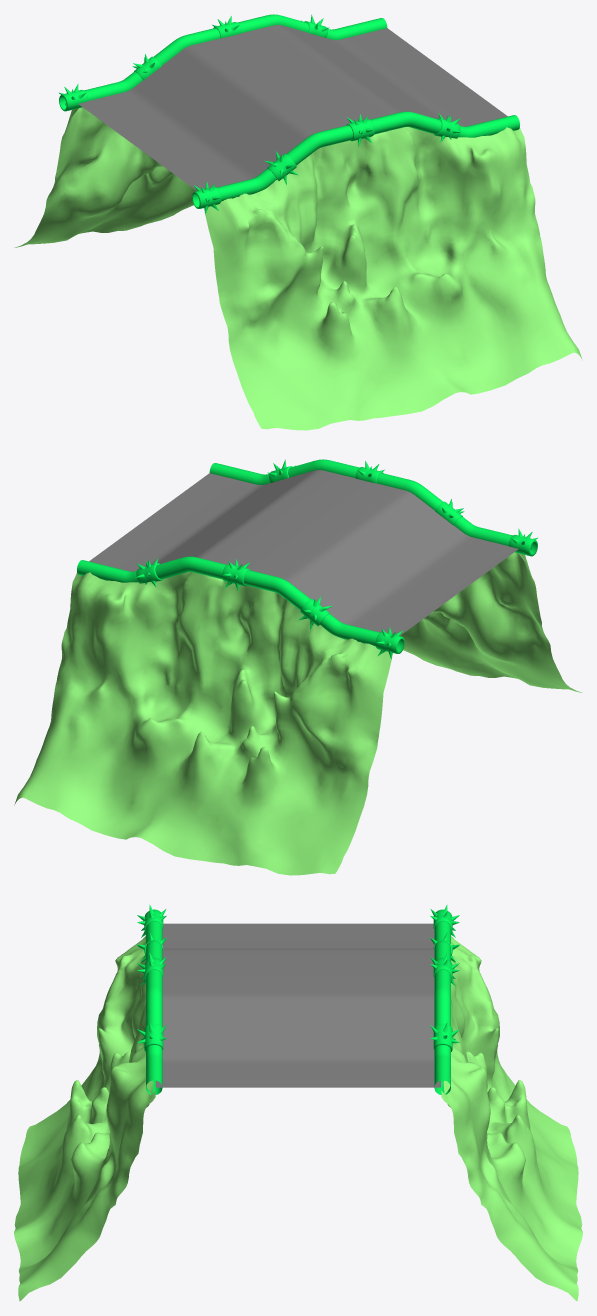
File: Track_Ice_06.fbx
3 views of the same model, one above another, from view 1: azimuth 30°, elevation 25°; view 2: azimuth 150°, elevation 25°; view 3: azimuth 270°, elevation 25° (orthographic). The views are drawn at different scales.
Visible parts, largest first — view 1: Track_Ice_06_walls, Track_Ice_06; view 2: Track_Ice_06_walls, Track_Ice_06; view 3: Track_Ice_06_walls, Track_Ice_06.
Boxes of the visible parts, x1,y1,x2,y2 form: Track_Ice_06_walls: (14,14,582,430); Track_Ice_06: (78,25,507,190); Track_Ice_06_walls: (14,459,582,875); Track_Ice_06: (89,470,518,635); Track_Ice_06_walls: (14,904,582,1301); Track_Ice_06: (156,923,440,1087).
Size of what is drawn, in the model's own units: 3178 by 4392 by 2298.
